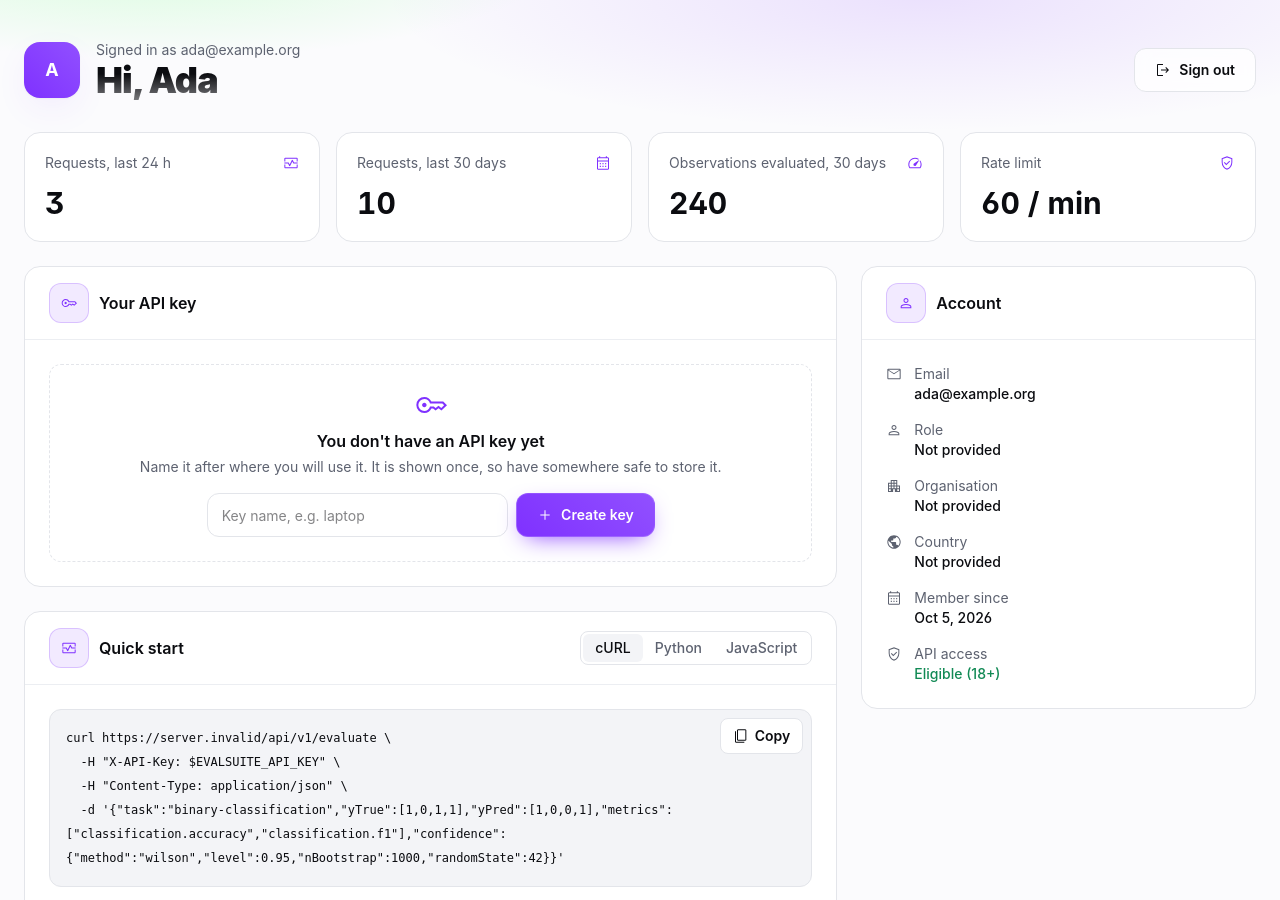
Test case: authentication UI › signs out and clears the session
Step 1. Click the button "Sign out" → x=1195, y=70, box [1134,48,1256,92]
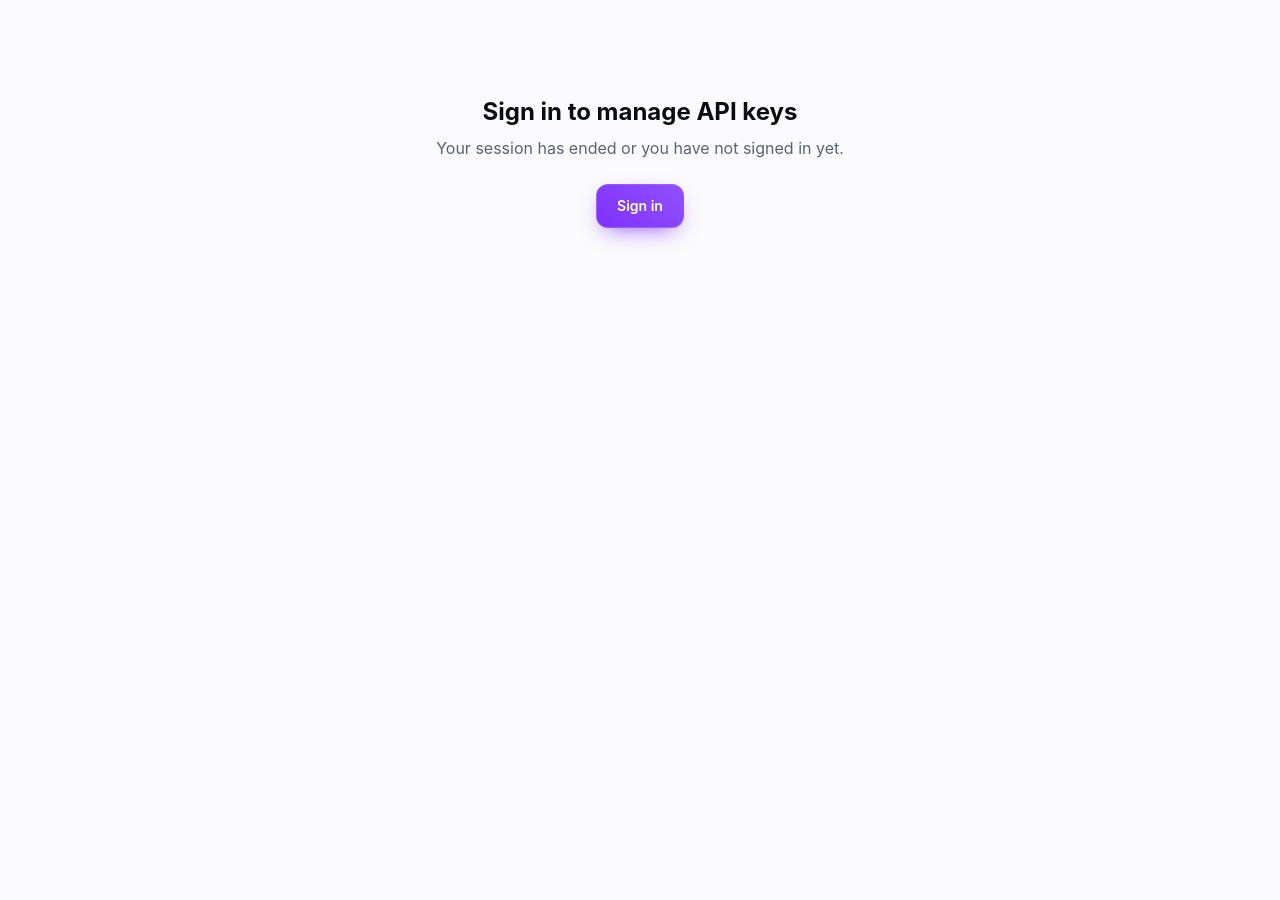
Expected: the heading "Sign in to manage API keys" is shown, [482,97,798,126]
